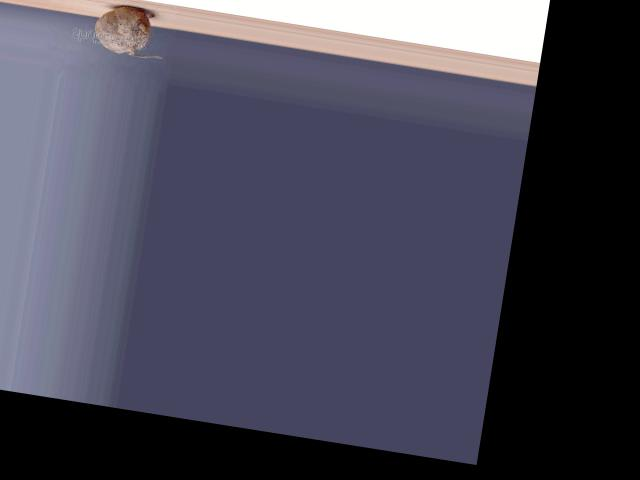beet: (92, 2, 171, 61)
